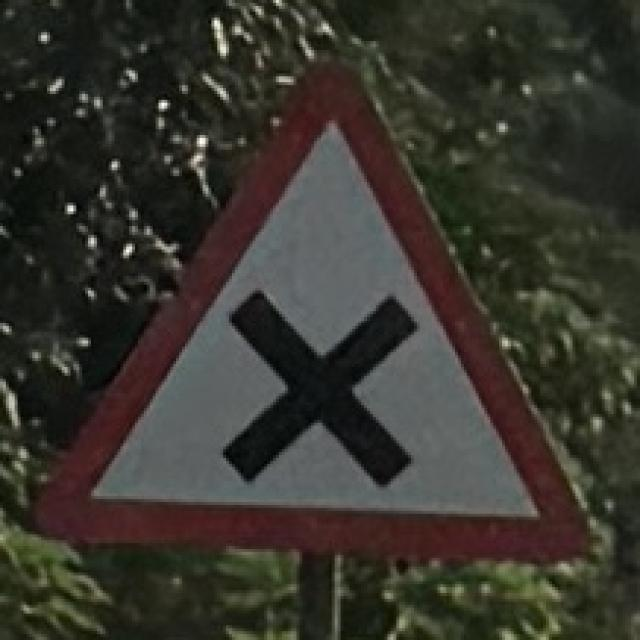CROSS_ROAD: (19, 45, 602, 570)
